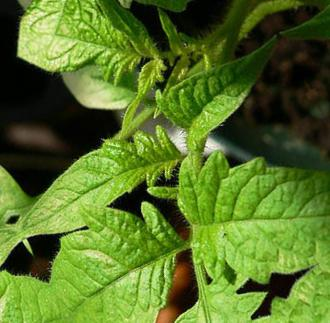Tomato leaf: (145, 101, 330, 323), (22, 164, 226, 323), (0, 106, 198, 263), (0, 0, 175, 142), (150, 27, 307, 158)
